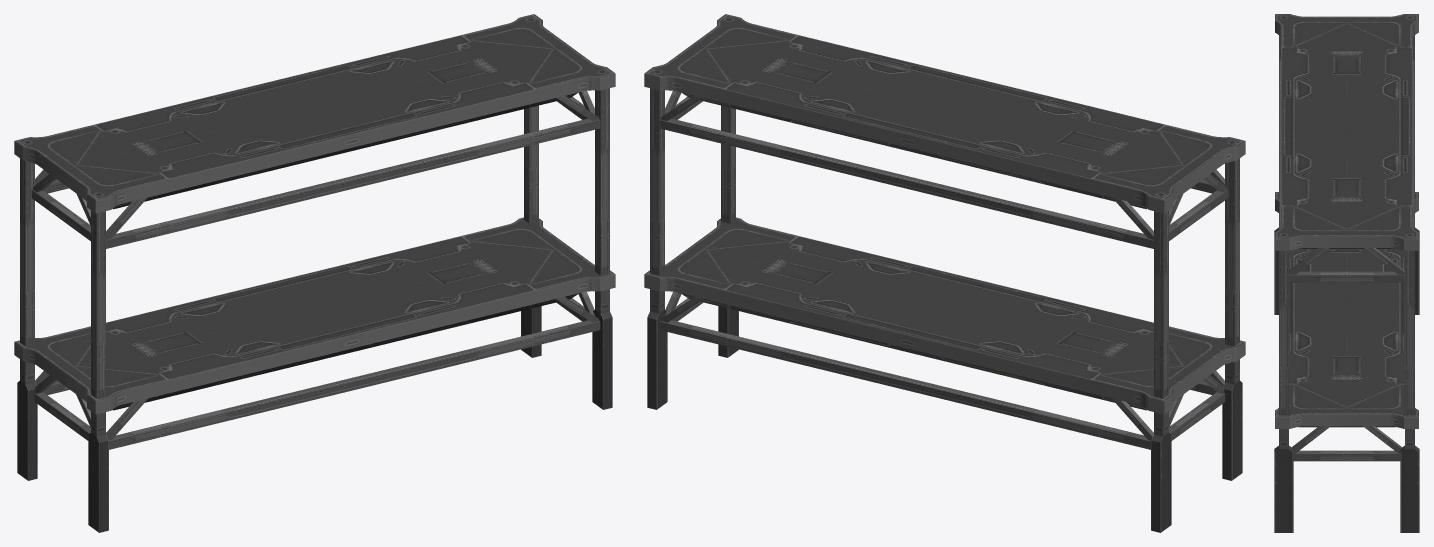
The picture shows the model from 3 angles, left to right: view 1: azimuth 30°, elevation 25°; view 2: azimuth 150°, elevation 25°; view 3: azimuth 270°, elevation 25°; orthographic projection. The views are drawn at different scales.
Visible parts, largest first — view 1: Prop_Shelves_WideShort; view 2: Prop_Shelves_WideShort; view 3: Prop_Shelves_WideShort.
Part boxes in pixels (x1,y1,x2,y2): Prop_Shelves_WideShort: [14, 14, 615, 532]; Prop_Shelves_WideShort: [644, 14, 1245, 532]; Prop_Shelves_WideShort: [1274, 14, 1419, 532].
Size of the model in its own units: 1.38 by 0.8478 by 0.3787.
1 material, 1 textured.
